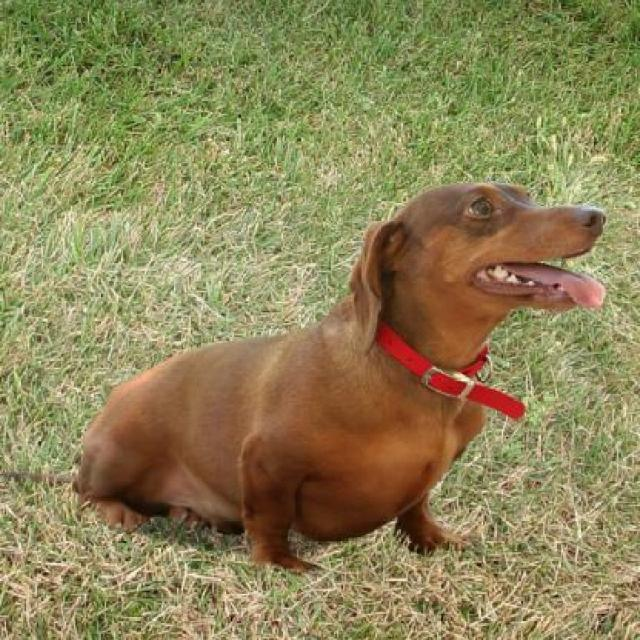Dog: (2, 177, 610, 575)
